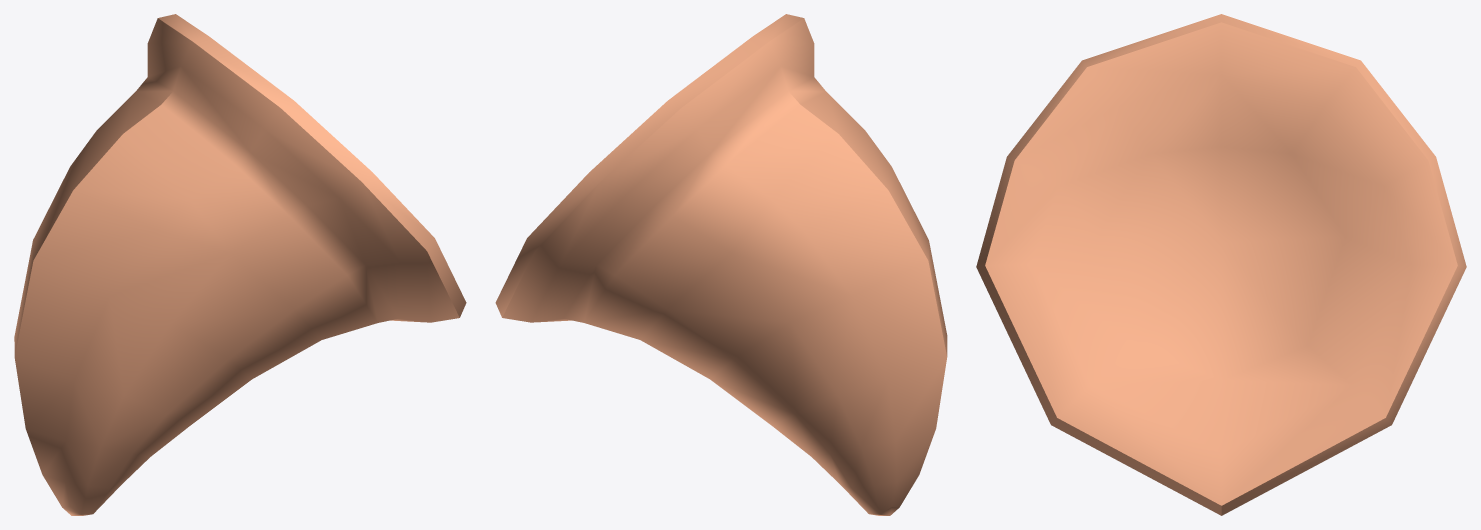
3 renders of one model, left to right at view 1: azimuth 30°, elevation 25°; view 2: azimuth 150°, elevation 25°; view 3: azimuth 270°, elevation 25°, orthographic. The views are drawn at different scales.
Visible parts, largest first — view 1: model_0.076; view 2: model_0.076; view 3: model_0.076.
Part boxes in pixels (bbox=[...]): model_0.076: bbox=[14, 14, 466, 515]; model_0.076: bbox=[495, 14, 947, 515]; model_0.076: bbox=[976, 14, 1466, 515].
Size of the model in its own units: 3.75 by 3.88 by 3.39.
